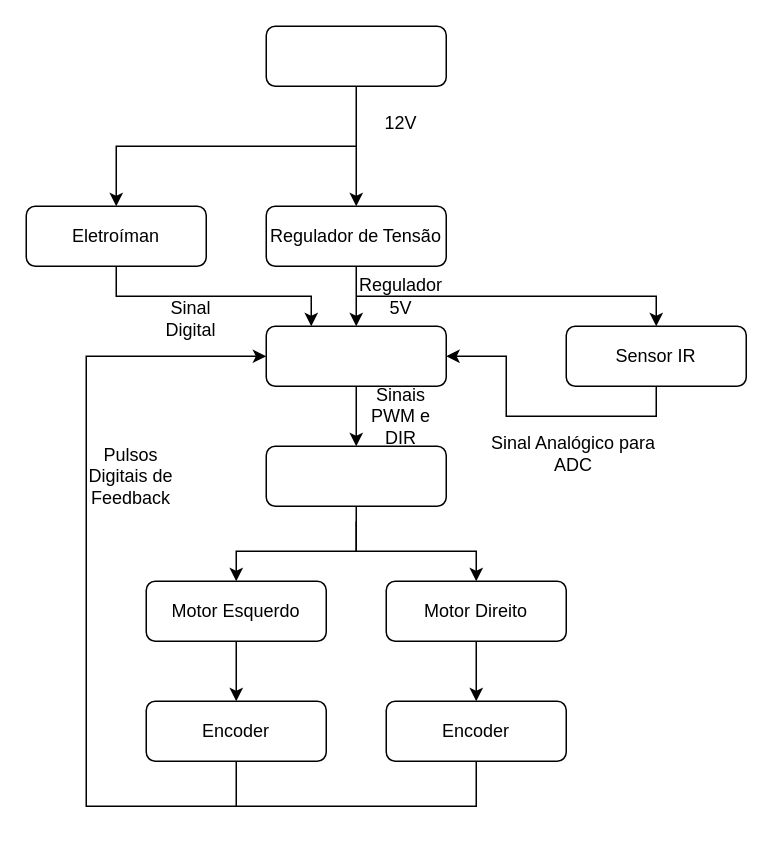
The diagram is 773 pixels wide and 845 high, and some of its shapes have lost their labels. Each missing label, with the box of its shape:
ATmega328p: (265, 325, 446, 386)
Fonte de Alimentação DC (Bateria): (265, 25, 446, 86)
Ponte H: (265, 445, 446, 506)
